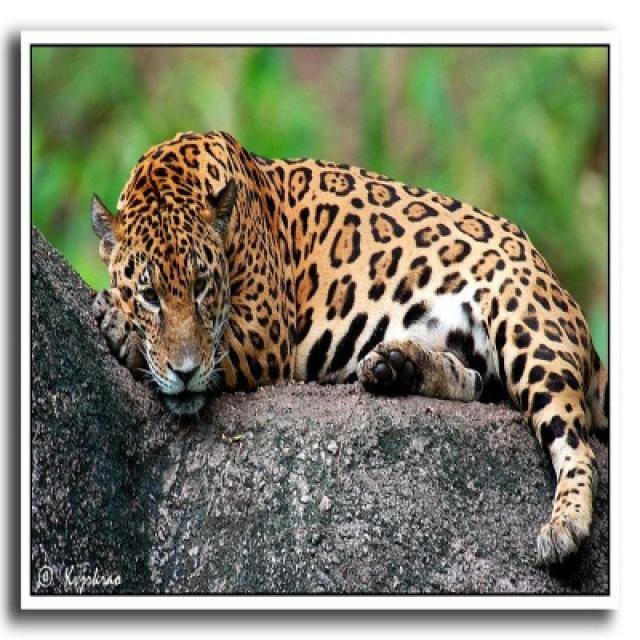Jaguar: (88, 123, 611, 557)
